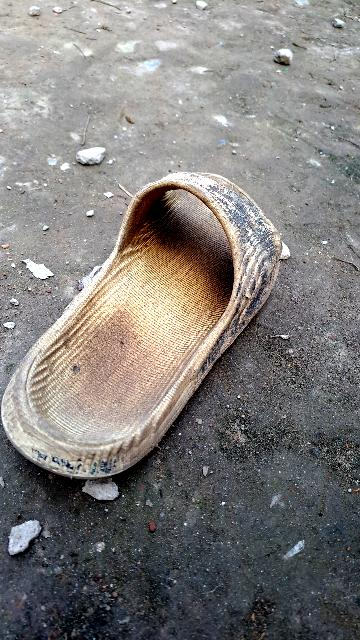sandal: (0, 146, 304, 496)
